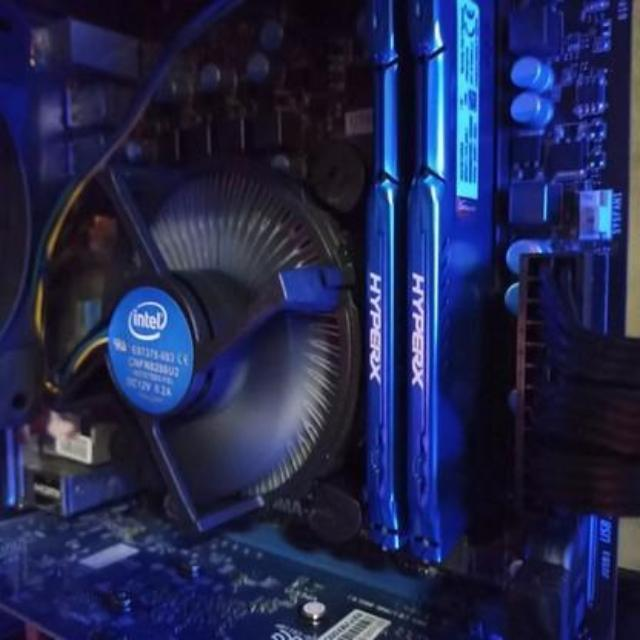CPU_Fan: (51, 170, 358, 528)
